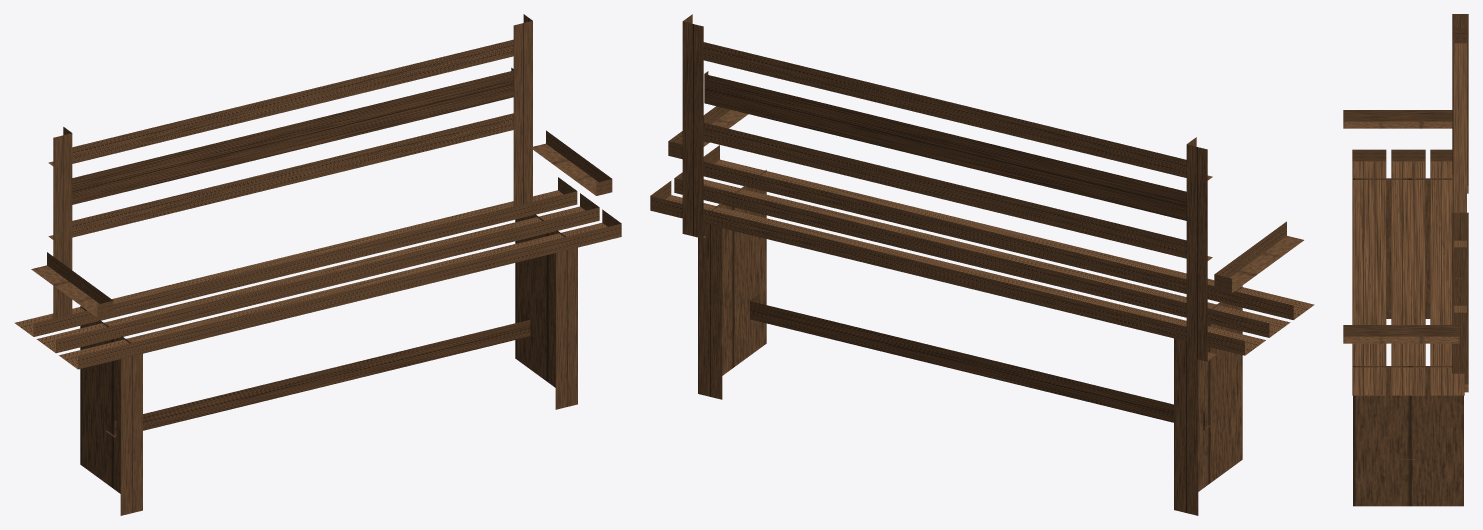
Rendered from prop_haven_bench_a.glb.
3 renders of one model, left to right at view 1: azimuth 30°, elevation 25°; view 2: azimuth 150°, elevation 25°; view 3: azimuth 270°, elevation 25°, orthographic. The views are drawn at different scales.
Visible parts, largest first — view 1: prop_haven_bench_a; view 2: prop_haven_bench_a; view 3: prop_haven_bench_a.
Boxes of the visible parts, bbox=[...] form: prop_haven_bench_a: bbox=[15, 14, 621, 515]; prop_haven_bench_a: bbox=[650, 14, 1314, 515]; prop_haven_bench_a: bbox=[1343, 14, 1468, 506].
Size of the model in its own units: 1.7 by 1.02 by 0.385.
Materials: 1 (1 with a texture image).
